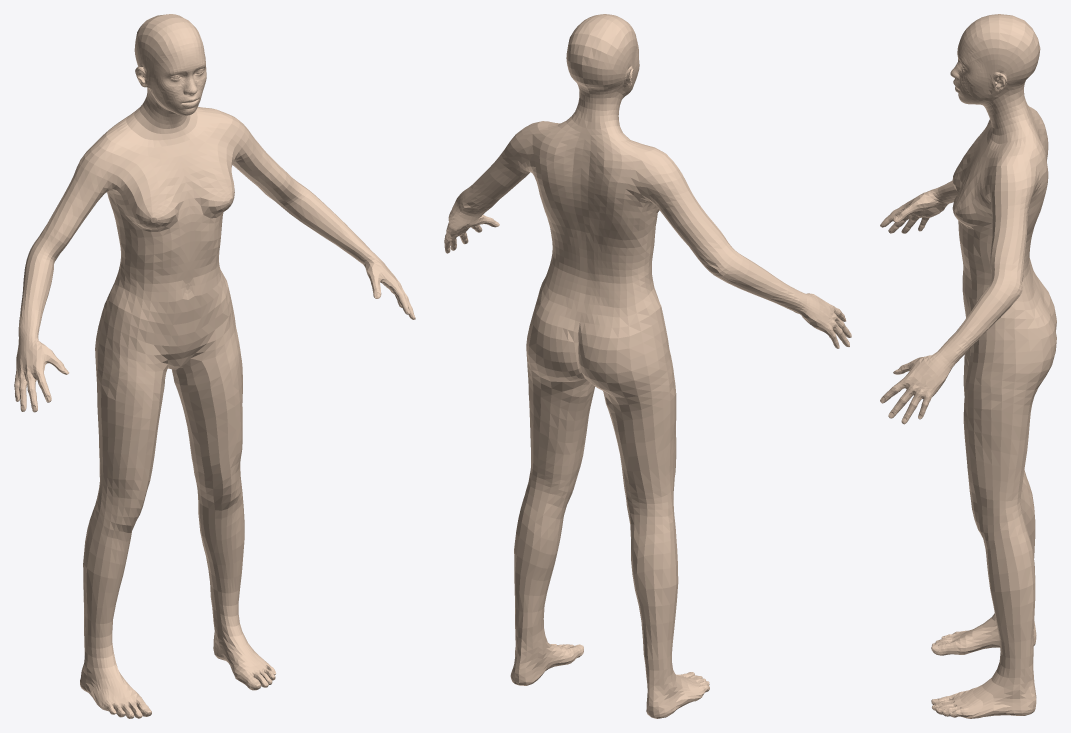
The model's file is female-young-fit-medium.glb.
3 views of the same model, side by side, from view 1: azimuth 30°, elevation 25°; view 2: azimuth 150°, elevation 25°; view 3: azimuth 270°, elevation 25° (orthographic).
Visible parts, largest first — view 1: world; view 2: world; view 3: world.
Boxes of the visible parts, x1=… form: world: x1=14, y1=14, x2=415, y2=718; world: x1=444, y1=14, x2=851, y2=718; world: x1=880, y1=14, x2=1056, y2=718.
Size of the model in its own units: 1.09 by 1.76 by 0.4241.
